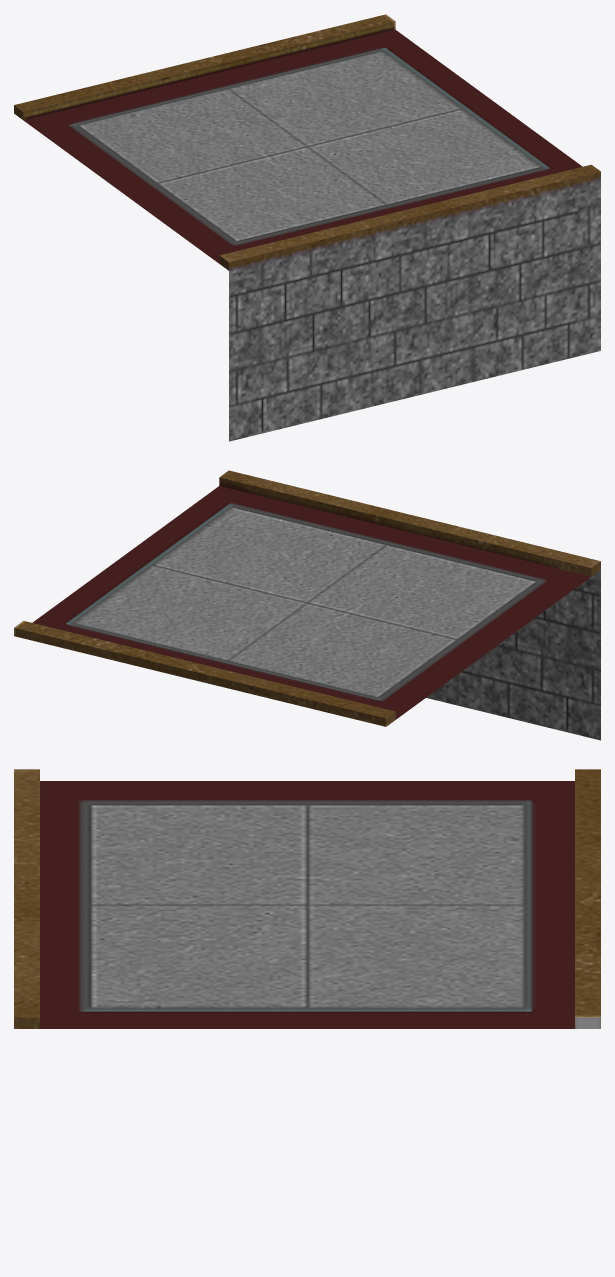
Rendered from StraightModule.obj.
3 views of the same model, one above another, from view 1: azimuth 30°, elevation 25°; view 2: azimuth 150°, elevation 25°; view 3: azimuth 270°, elevation 25° (orthographic). The views are drawn at different scales.
Visible parts, largest first — view 1: polySurface88; view 2: polySurface88; view 3: polySurface88.
Boxes of the visible parts, box(x1,y1,x2,y2) form: polySurface88: box(14, 14, 600, 441); polySurface88: box(14, 470, 600, 740); polySurface88: box(14, 769, 600, 1028).
Bounding box in the file's own units: 197 × 90.53 × 197.
Materials: 1 (1 with a texture image).
